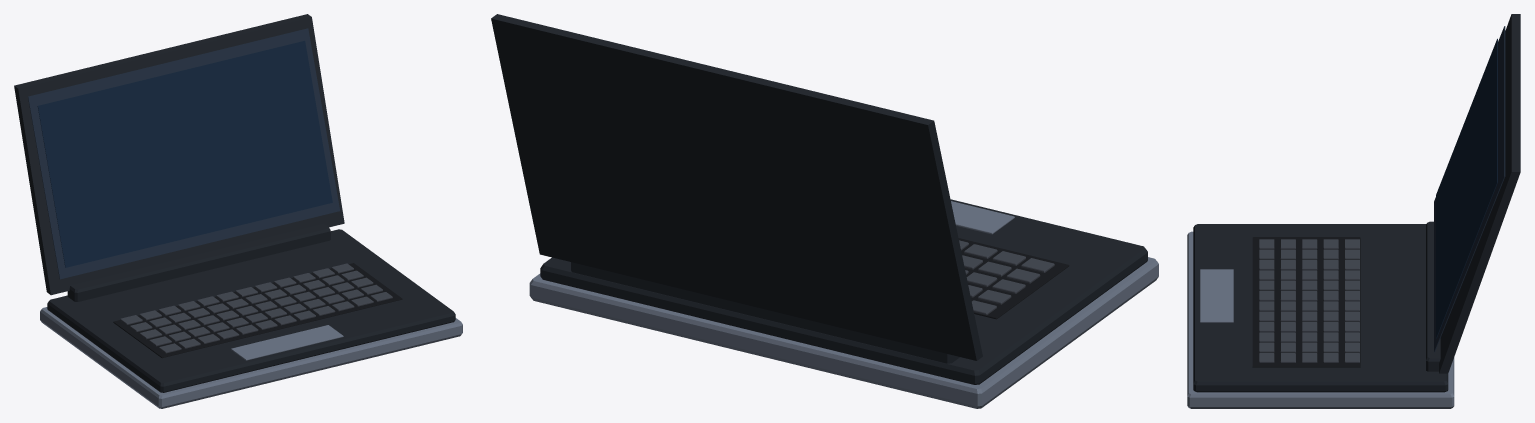
The model's file is notebook.obj.
3 renders of one model, left to right at view 1: azimuth 30°, elevation 25°; view 2: azimuth 150°, elevation 25°; view 3: azimuth 270°, elevation 25°, orthographic. The views are drawn at different scales.
Visible parts, largest first — view 1: notebook_display, notebook_grafite, notebook_keycap, notebook_vidro, notebook_aluminio, notebook_teclas; view 2: notebook_grafite, notebook_aluminio, notebook_keycap, notebook_teclas; view 3: notebook_grafite, notebook_keycap, notebook_display, notebook_aluminio, notebook_teclas, notebook_vidro.
Part boxes in pixels (x1,y1,x2,y2): notebook_display: [37, 40, 332, 267]; notebook_grafite: [14, 14, 455, 392]; notebook_keycap: [120, 263, 392, 353]; notebook_vidro: [28, 28, 339, 279]; notebook_aluminio: [40, 307, 462, 408]; notebook_teclas: [113, 263, 402, 358]; notebook_grafite: [491, 14, 1147, 384]; notebook_aluminio: [529, 201, 1158, 408]; notebook_keycap: [959, 240, 1054, 315]; notebook_teclas: [958, 238, 1069, 319]; notebook_grafite: [1193, 14, 1520, 392]; notebook_keycap: [1259, 239, 1359, 362]; notebook_display: [1436, 38, 1497, 338]; notebook_aluminio: [1187, 231, 1454, 408]; notebook_teclas: [1252, 237, 1360, 367]; notebook_vidro: [1434, 26, 1505, 352].
Bounding box in the file's own units: 0.38 × 0.254 × 0.327.
